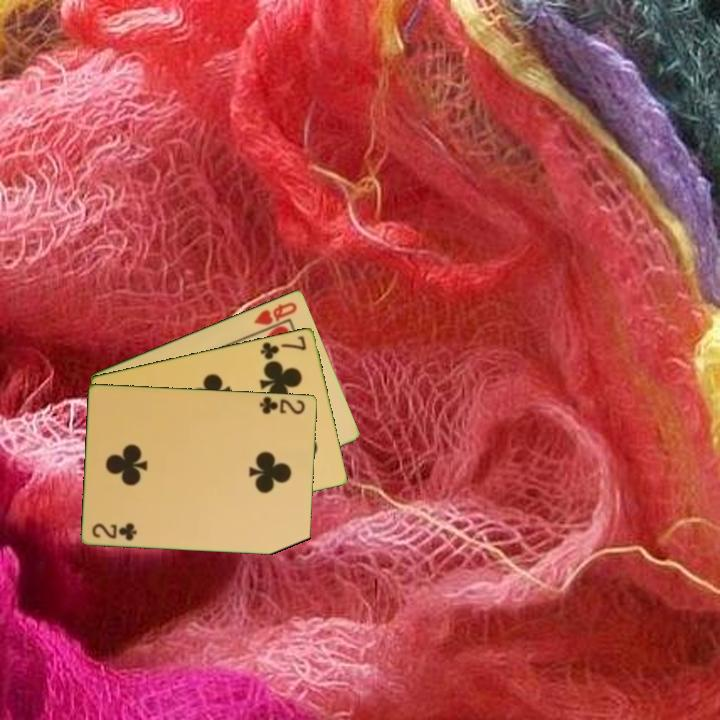2c: (256, 393, 308, 417), (89, 519, 140, 543)
7c: (257, 332, 309, 362)
Qh: (251, 298, 300, 328)
